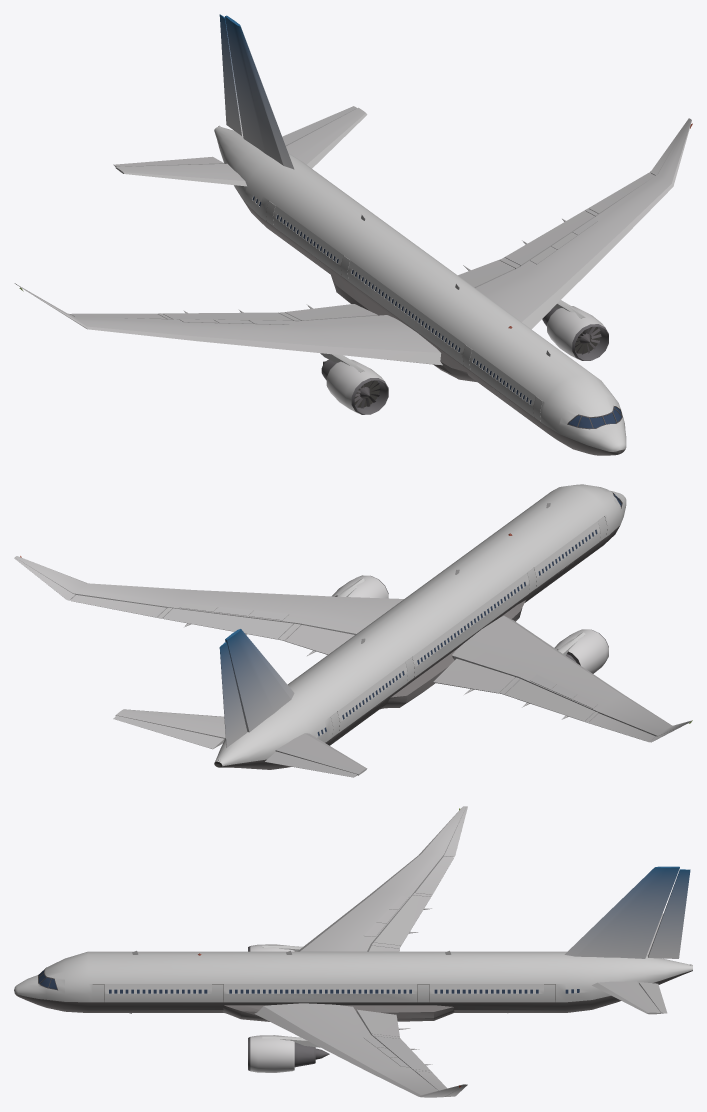
Rendered from airbus-a350-900.glb.
3 renders of one model, top to bottom at view 1: azimuth 30°, elevation 25°; view 2: azimuth 150°, elevation 25°; view 3: azimuth 270°, elevation 25°, orthographic. The views are drawn at different scales.
Size of the model in its own units: 64.75 by 17.19 by 66.8.
